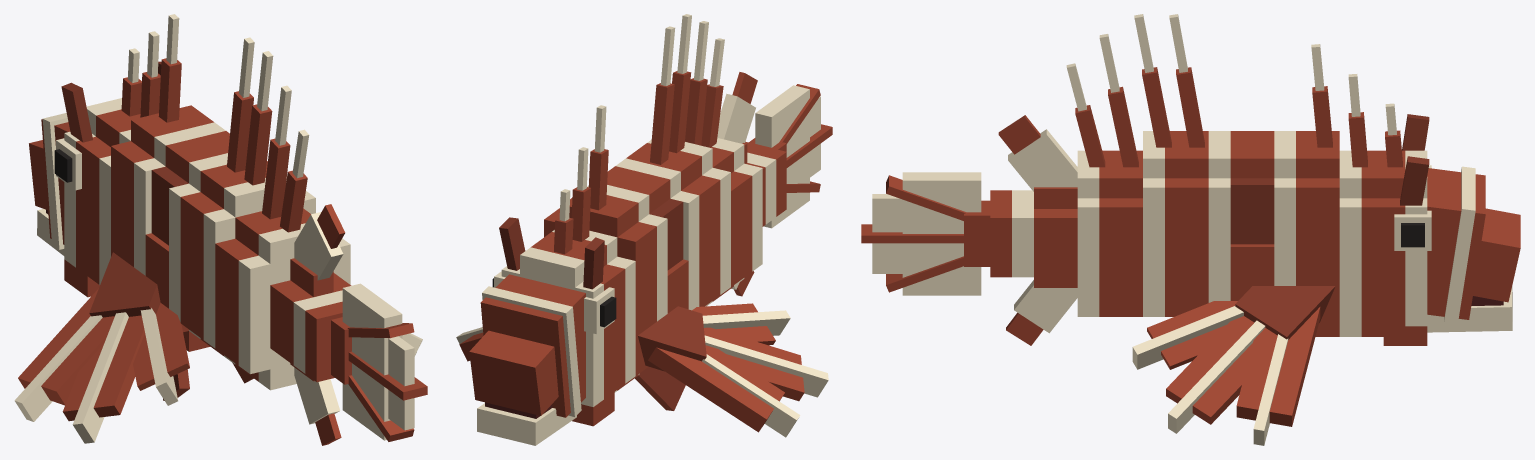
The model's file is Lionfish.obj.
3 renders of one model, left to right at view 1: azimuth 30°, elevation 25°; view 2: azimuth 150°, elevation 25°; view 3: azimuth 270°, elevation 25°, orthographic. The views are drawn at different scales.
Visible parts, largest first — view 1: S3, PecL, Head, S2, S1, Tail; view 2: Head, PecL, S1, S2, S3, Tail, PecR; view 3: Head, S3, PecR, S1, S2, Tail.
Part boxes in pixels (x1,y1,x2,y2): S3: (215,85,351,445); PecL: (14,252,189,443); Head: (29,31,161,297); S2: (169,37,315,364); S1: (111,14,253,400); Tail: (293,283,427,441); Head: (469,147,635,445); PecL: (638,303,828,437); S1: (544,105,688,410); S2: (616,14,730,310); S3: (685,21,765,301); Tail: (745,84,832,228); PecR: (456,327,483,361); Head: (1339,74,1520,345); S3: (998,34,1142,345); PecR: (1132,286,1335,445); S1: (1230,44,1339,336); S2: (1134,14,1230,316); Tail: (861,172,1033,295).
Size of the model in its own units: 7.43 by 7.26 by 12.07.
1 material, 1 textured.
